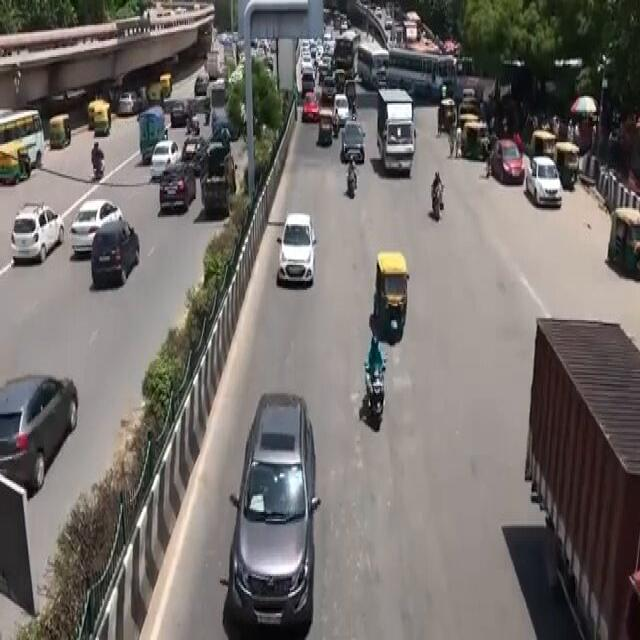three_wheeler: (373, 244, 413, 352)
